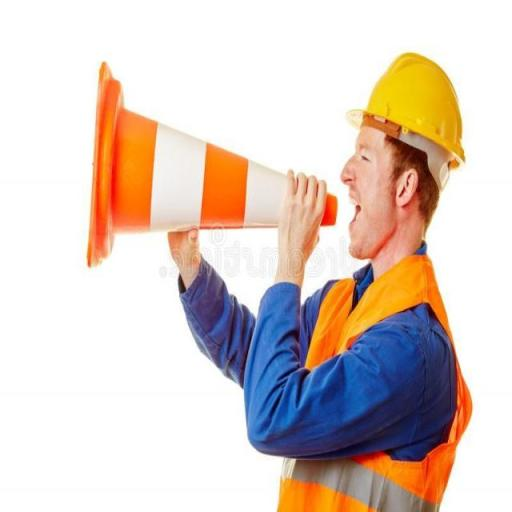helmet: (344, 48, 465, 168)
vest: (276, 258, 466, 507)
